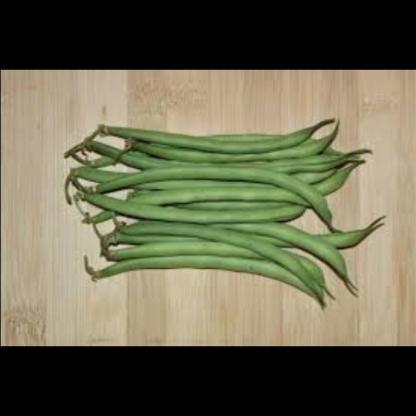beans: (38, 98, 356, 303)
